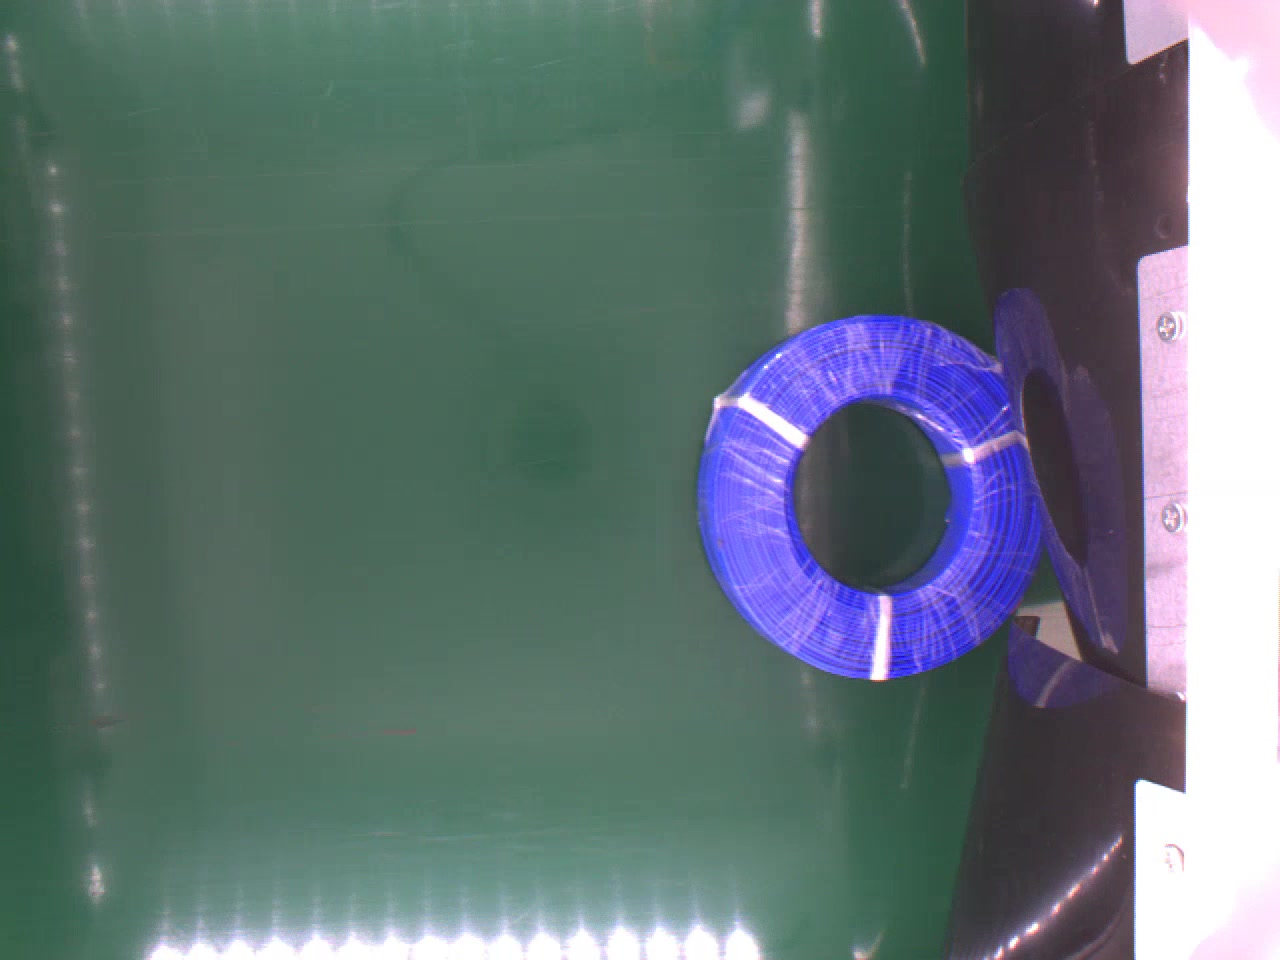blue: (693, 308, 1040, 678)
